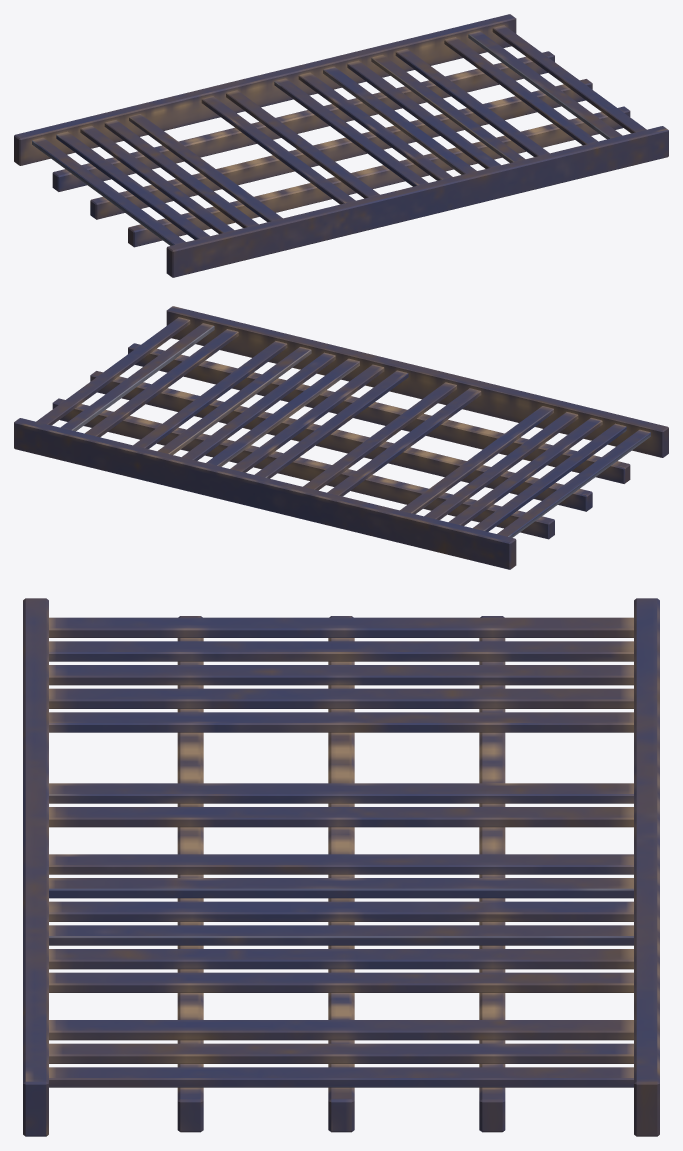
Rendered from Damaged Scaffold Floor.fbx.
3 renders of one model, top to bottom at view 1: azimuth 30°, elevation 25°; view 2: azimuth 150°, elevation 25°; view 3: azimuth 270°, elevation 25°, orthographic. The views are drawn at different scales.
Parts seen in each view (by area): view 1: Scaffold Floor; view 2: Scaffold Floor; view 3: Scaffold Floor.
Boxes of the visible parts, bbox=[...] form: Scaffold Floor: bbox=[14, 14, 668, 277]; Scaffold Floor: bbox=[14, 306, 668, 569]; Scaffold Floor: bbox=[23, 598, 659, 1136].
Bounding box in the file's own units: 216 × 11.44 × 120.
